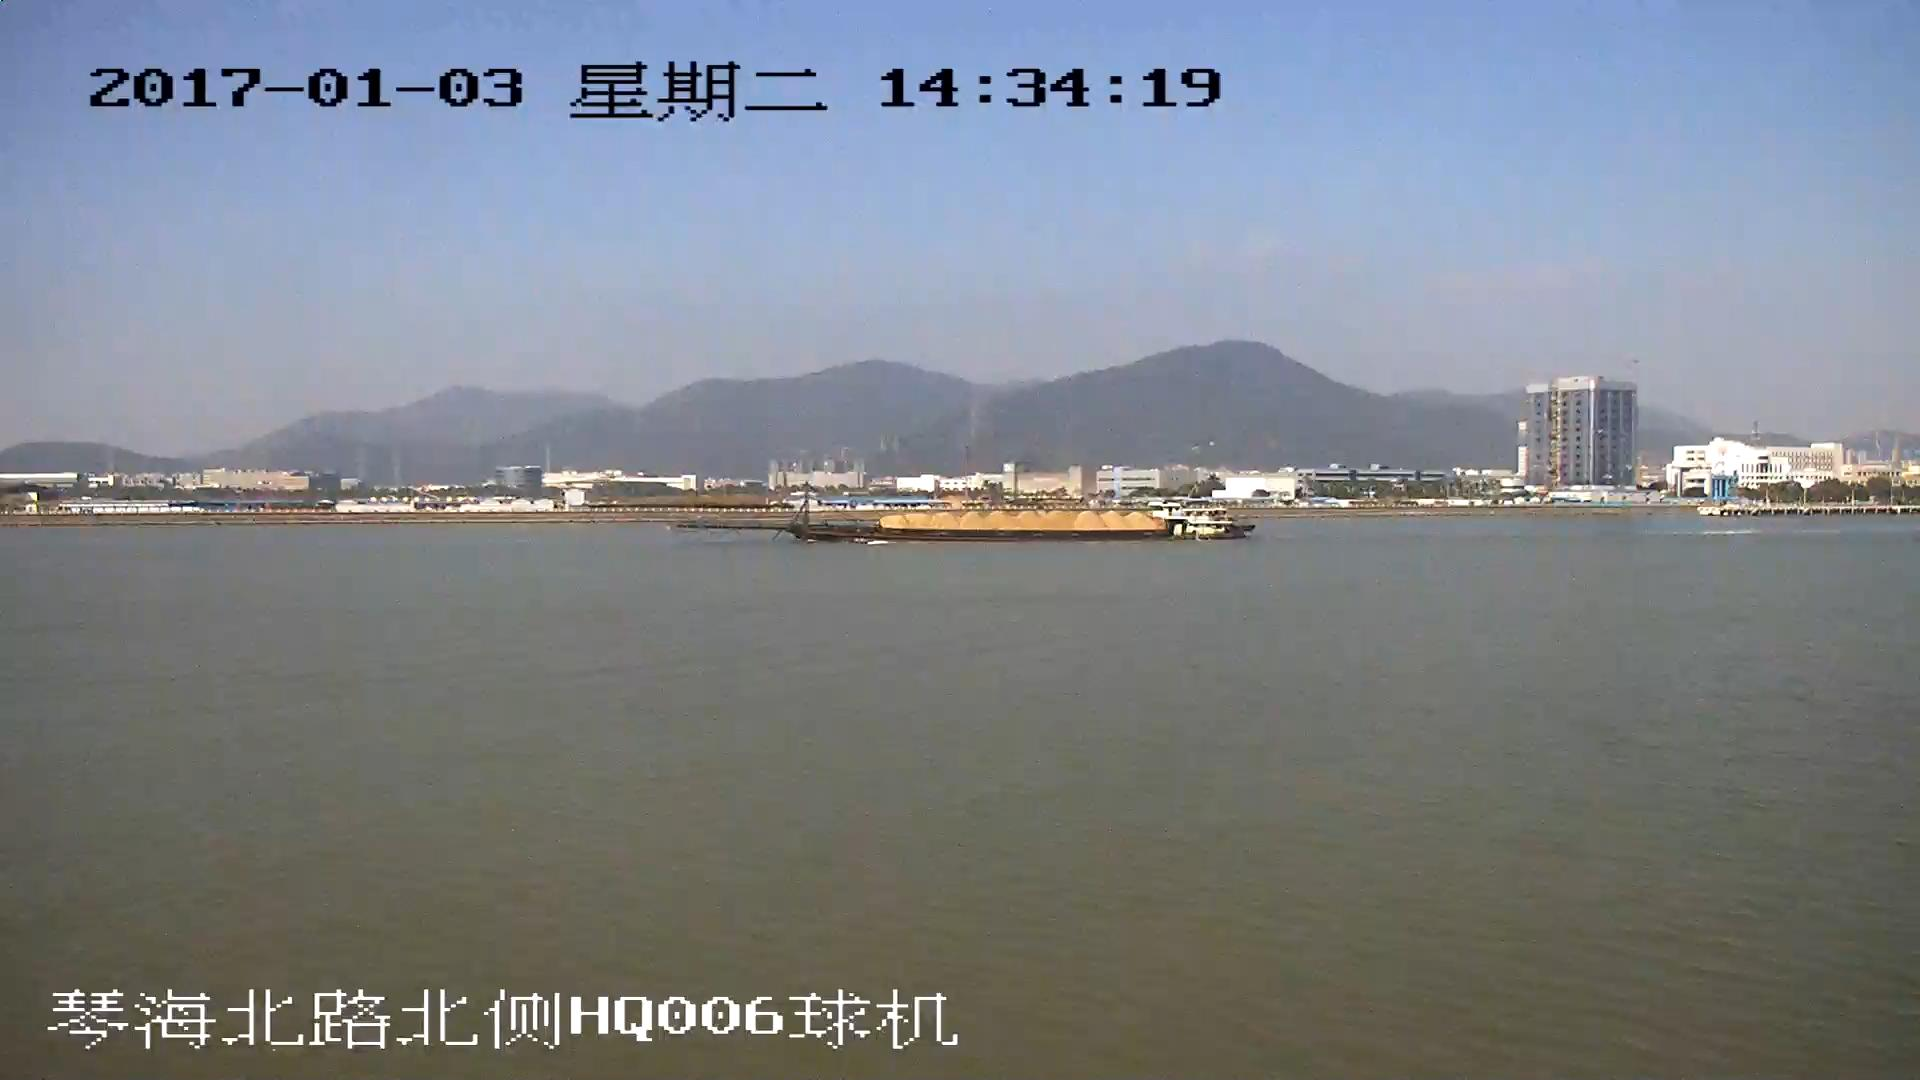ore carrier: (682, 492, 1252, 545)
